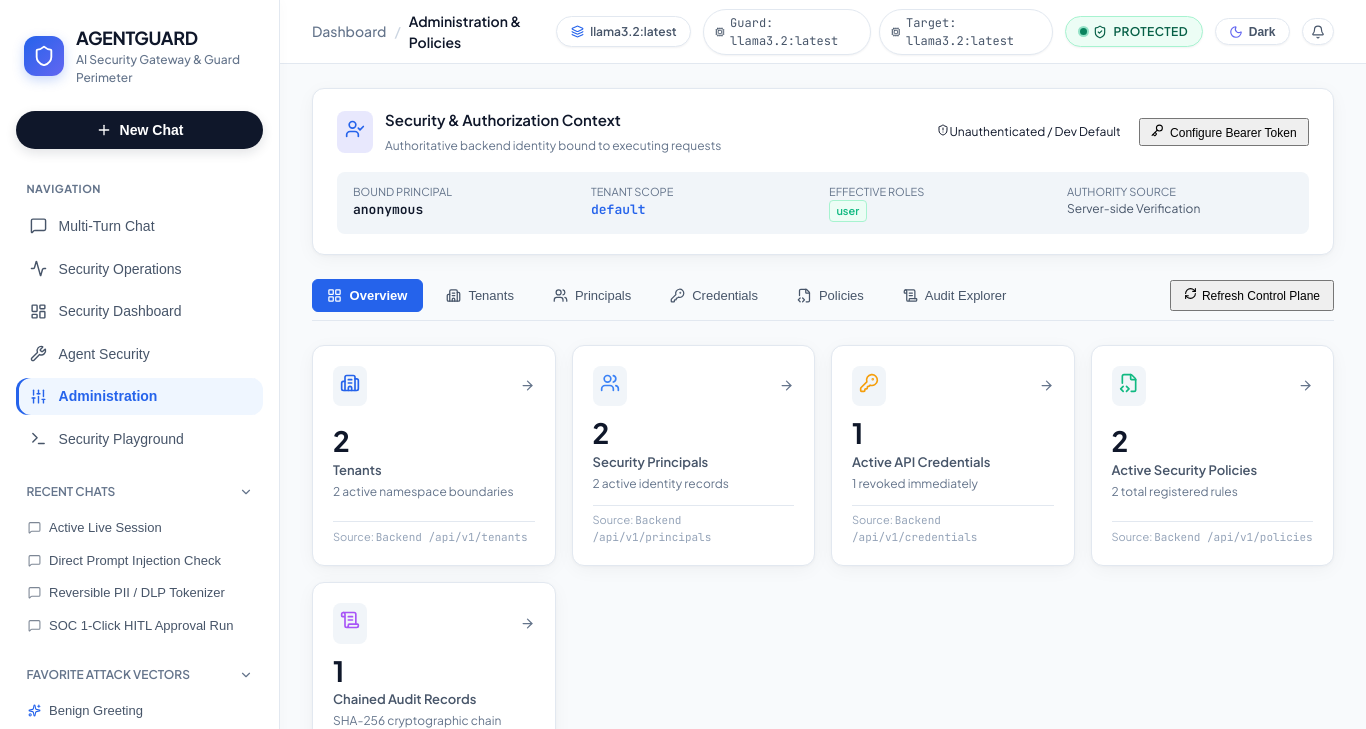
Test: AgentGuard Frontend v0.5 — Administration & Audit Suite › 6. Credential management displays safe metadata and never displays secrets in table
Expected: the heading "Security & Authorization Context" is shown, [385,110,621,129]
Click the tab "Credentials" at {"x": 714, "y": 295}, box [655,279,773,312]
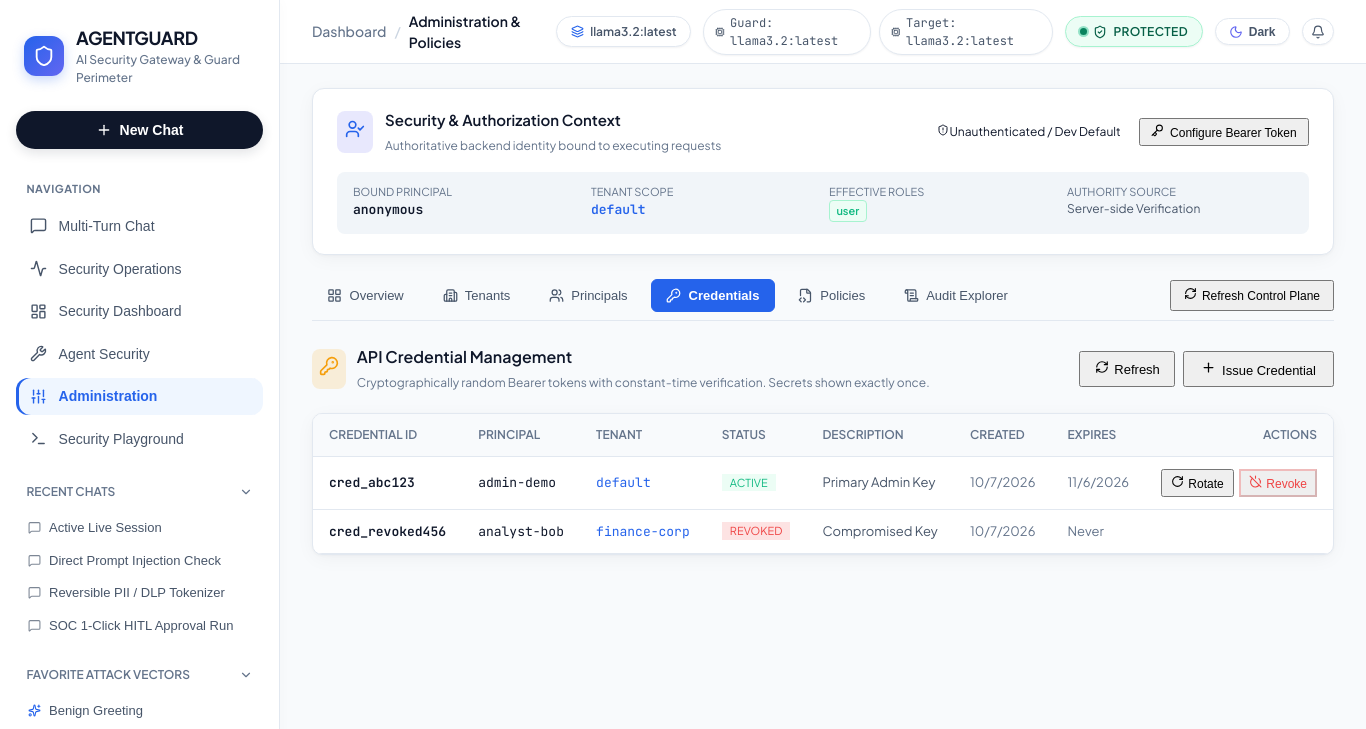
Now the text "cred_abc123" is shown, box [329,474,415,491]
Now the text "Primary Admin Key" is shown, box [806,456,954,509]
Now the text "cred_revoked456" is shown, box [329,523,446,540]
